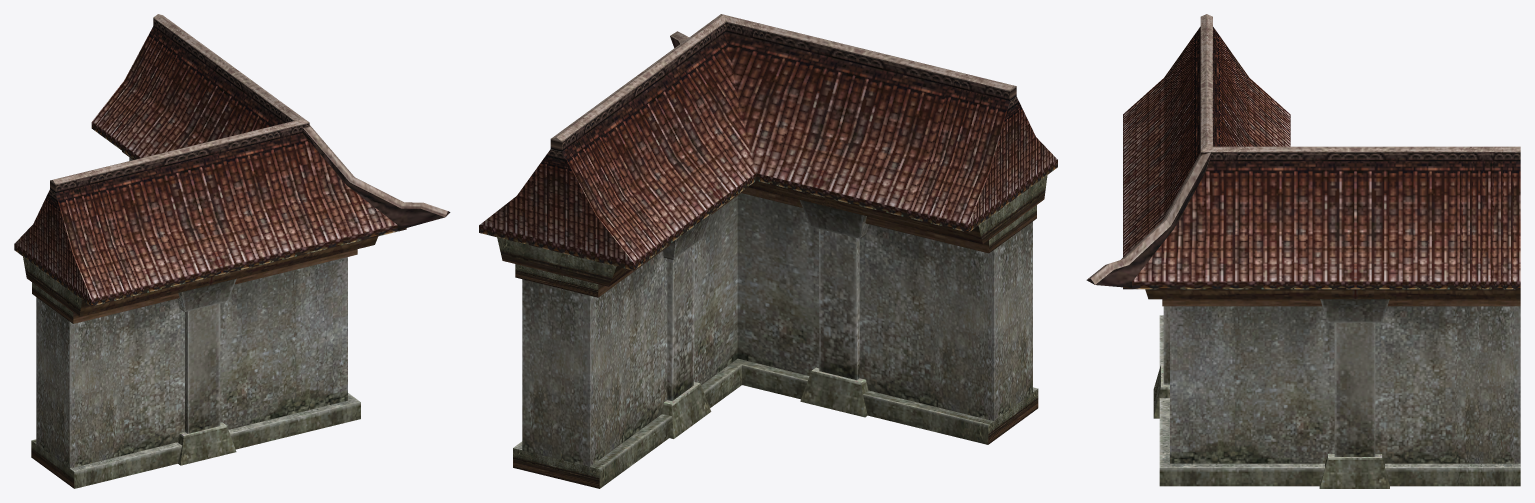
The model's file is a1-038-wall-corner.fbx.
The picture shows the model from 3 angles, left to right: view 1: azimuth 30°, elevation 25°; view 2: azimuth 150°, elevation 25°; view 3: azimuth 270°, elevation 25°; orthographic projection. The views are drawn at different scales.
Visible parts, largest first — view 1: Object01; view 2: Object01; view 3: Object01.
Boxes of the visible parts, x1,y1,x2,y2 form: Object01: (14,14,450,488); Object01: (479,14,1057,488); Object01: (1086,14,1520,488).
Bounding box in the file's own units: 5.56 × 4.5 × 5.54.
